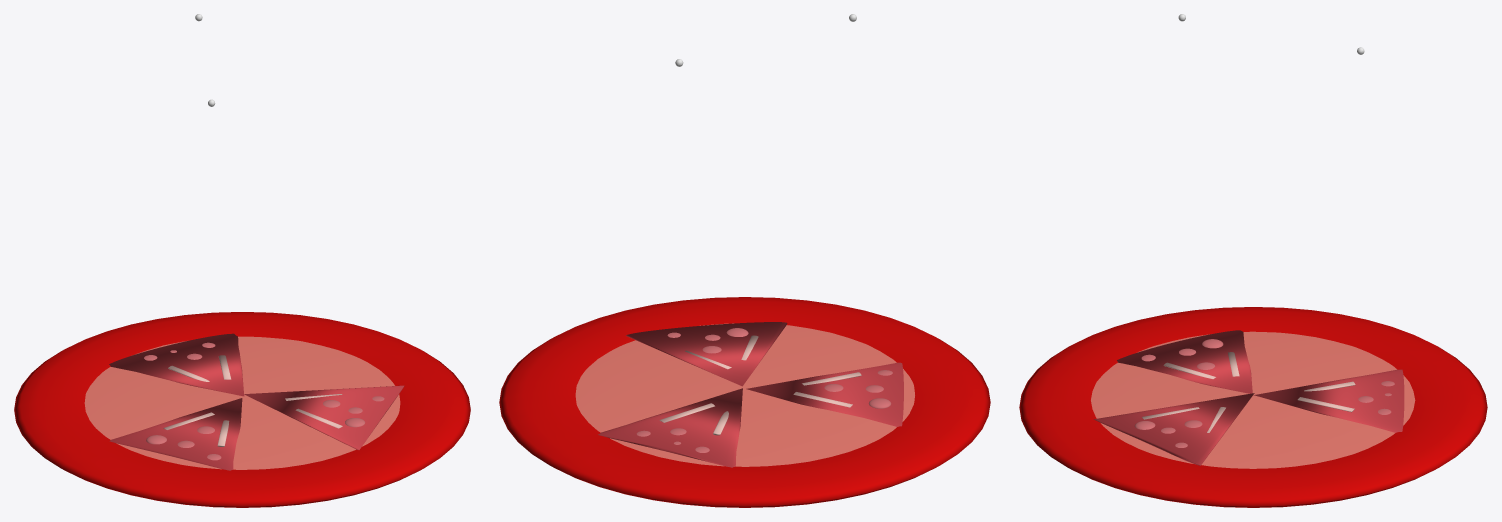
Rendered from tomatoslice.fbx.
The picture shows the model from 3 angles, left to right: view 1: azimuth 30°, elevation 25°; view 2: azimuth 150°, elevation 25°; view 3: azimuth 270°, elevation 25°; orthographic projection. The views are drawn at different scales.
Visible parts, largest first — view 1: Torus.001; view 2: Torus.001; view 3: Torus.001.
Boxes of the visible parts, x1,y1,x2,y2 form: Torus.001: [14, 312, 470, 507]; Torus.001: [499, 297, 990, 507]; Torus.001: [1019, 307, 1487, 507].
Size of the model in its own units: 125 by 112 by 125.
